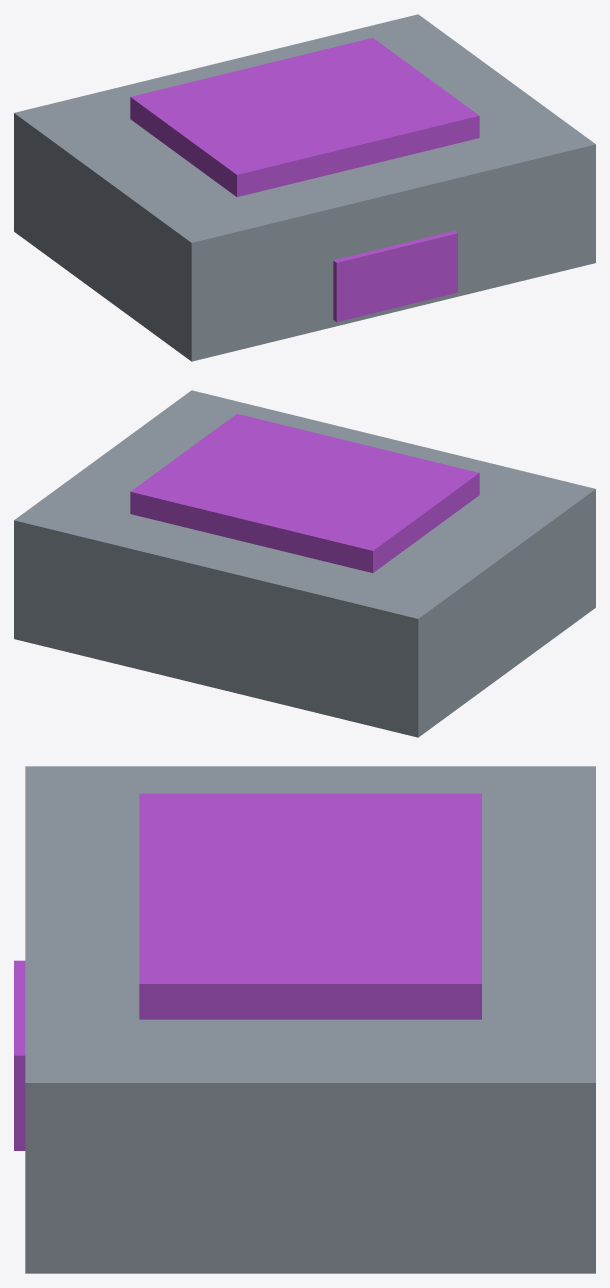
Rendered from CH_TrailGunship_LOD0.glb.
3 renders of one model, top to bottom at view 1: azimuth 30°, elevation 25°; view 2: azimuth 150°, elevation 25°; view 3: azimuth 270°, elevation 25°, orthographic. The views are drawn at different scales.
Parts seen in each view (by area): view 1: EntranceGate; view 2: EntranceGate; view 3: EntranceGate.
Part boxes in pixels (left/top/right/bottom): EntranceGate: left=14, top=14, right=595, bottom=361; EntranceGate: left=14, top=390, right=595, bottom=737; EntranceGate: left=14, top=766, right=595, bottom=1273.
Bounding box in the file's own units: 670 × 223 × 520.
